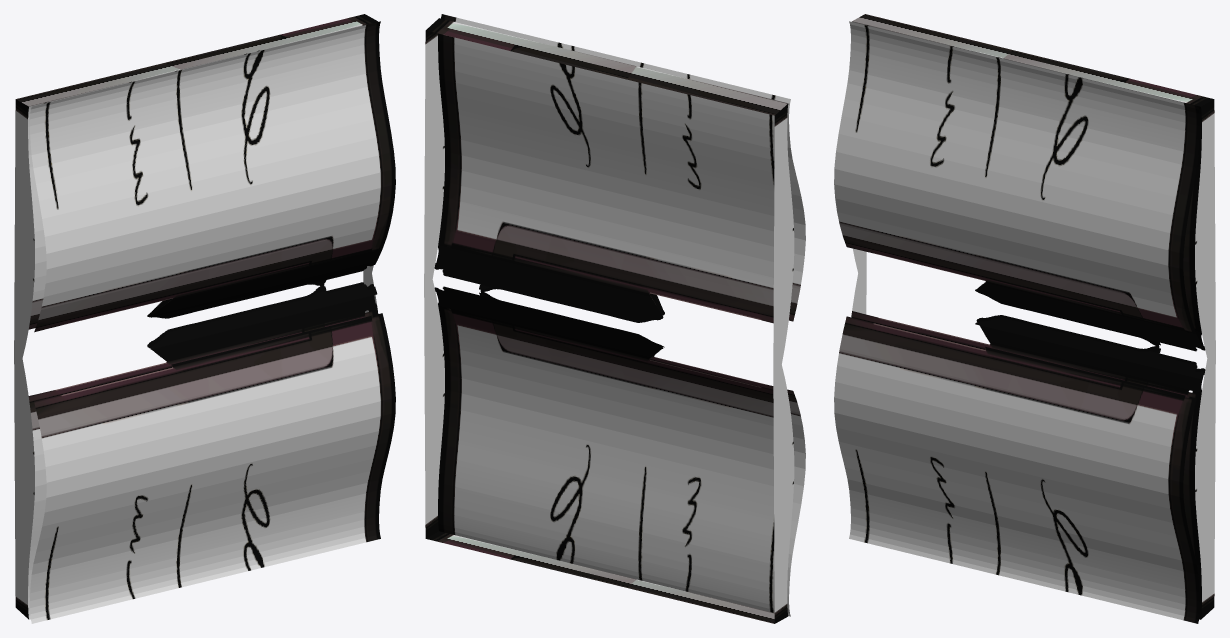
The model's file is Books.obj.
3 renders of one model, left to right at view 1: azimuth 30°, elevation 25°; view 2: azimuth 150°, elevation 25°; view 3: azimuth 330°, elevation 25°, orthographic.
Parts seen in each view (by area): view 1: Books; view 2: Books; view 3: Books.
Part boxes in pixels (x1=…): Books: x1=14, y1=14, x2=395, y2=623; Books: x1=424, y1=14, x2=805, y2=623; Books: x1=834, y1=14, x2=1215, y2=623.
Size of the model in its own units: 2.47 by 3.5 by 0.3995.
Materials: 1 (1 with a texture image).
